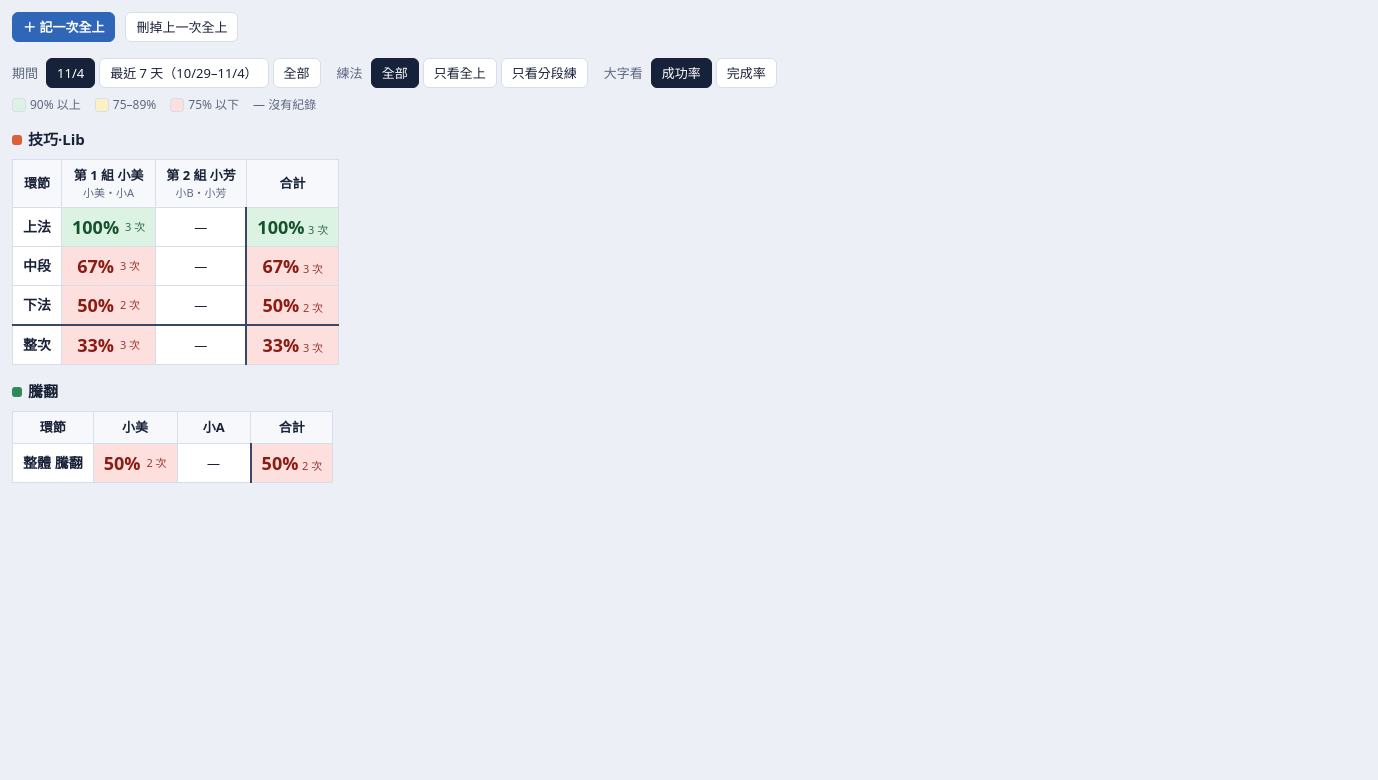
Test case: 總表 › 「整次」的格子也能點：明細列出整個做的每一次，全上的有標出來
The image size is (1378, 780).
Click the button named "第 1 組 小美 整次 ": click(109, 345) [62,329,155,361]
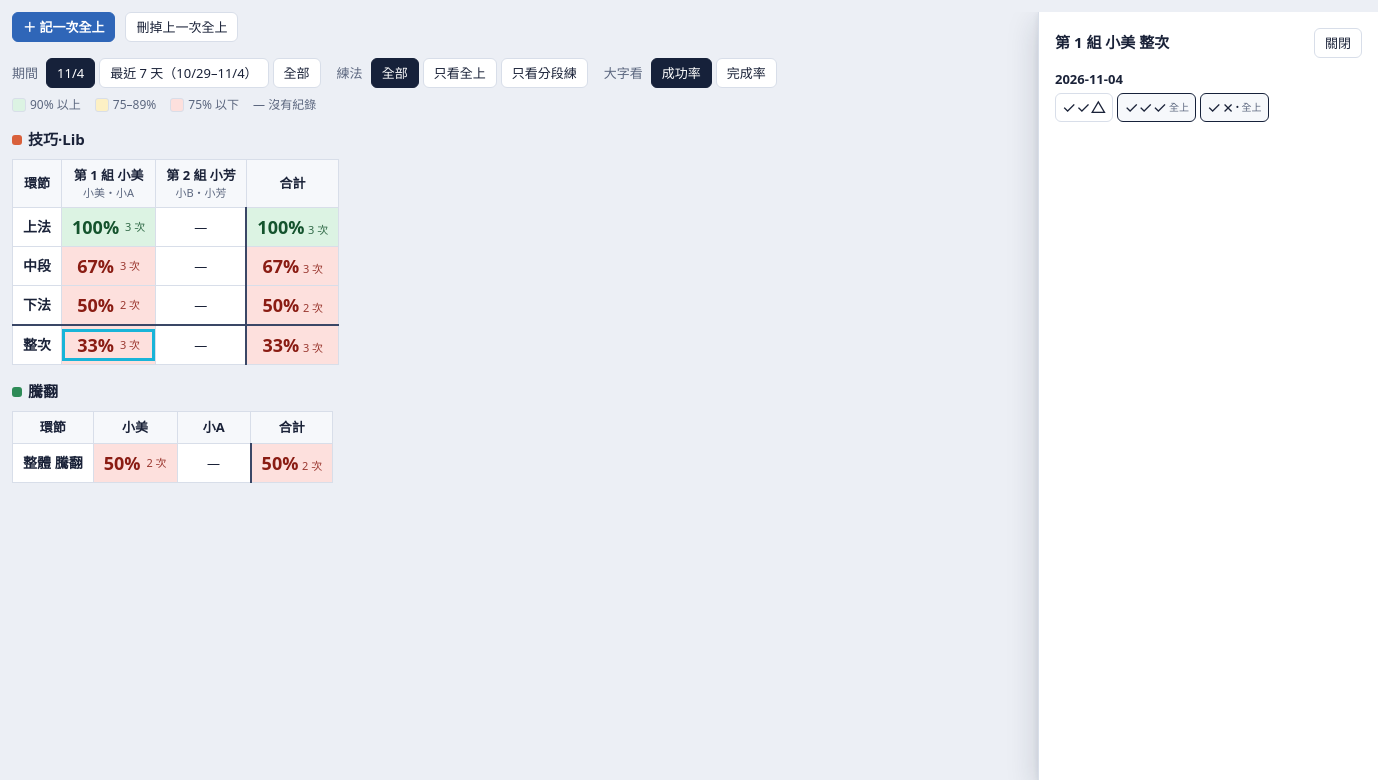
Expected: the heading "第 1 組 小美 整次" is shown, [1055,32,1169,54]
